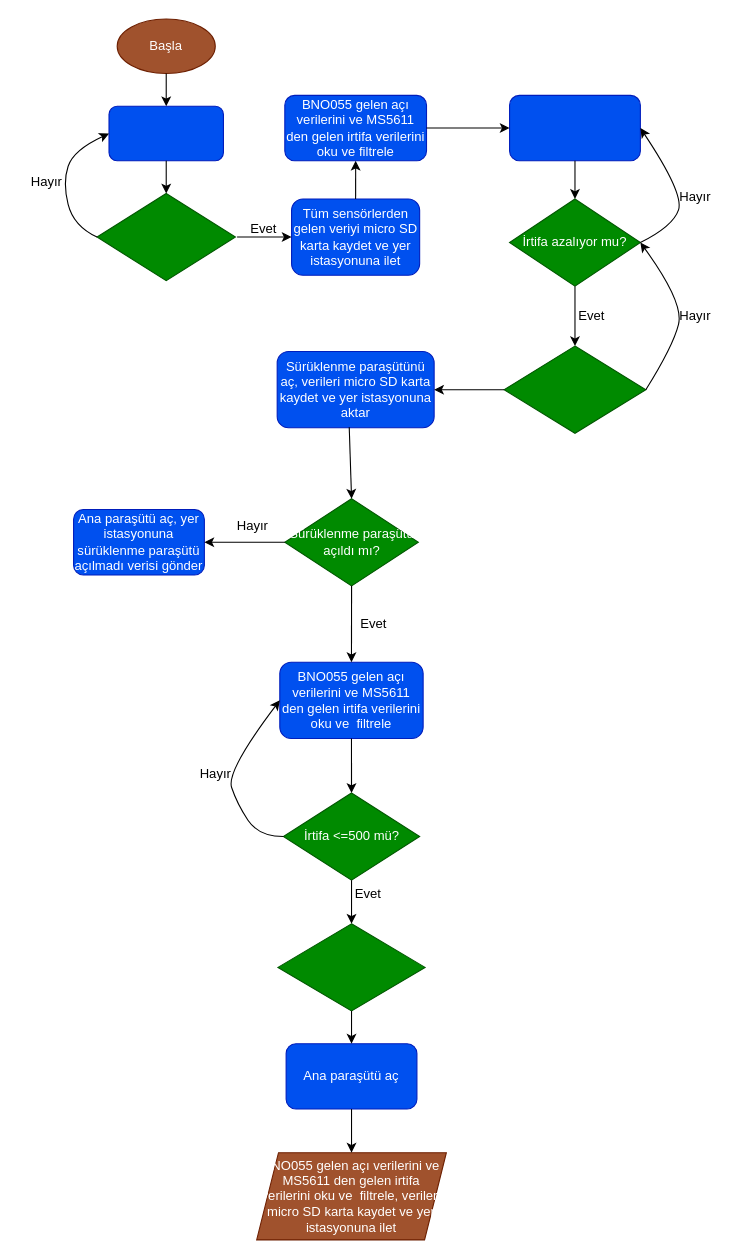
This 740x1259 diagram has some shape labels left out. The centre of each missing label's shape, as x and y in pixels:
"BNO055 ve MS5611 veri oku" goes at [165,133].
"Hız 10 ile 50 arasında mı?" goes at [351,967].
"İrtifa ve açı verilerini oku, önceki irtifa ile şimdiki irtifayı karşılaştır" goes at [574,127].
"Roket açısını kontrol et, açı <= 20 derece mi?" goes at [574,389].
"Veriler geliyor mu?" goes at [165,236].
